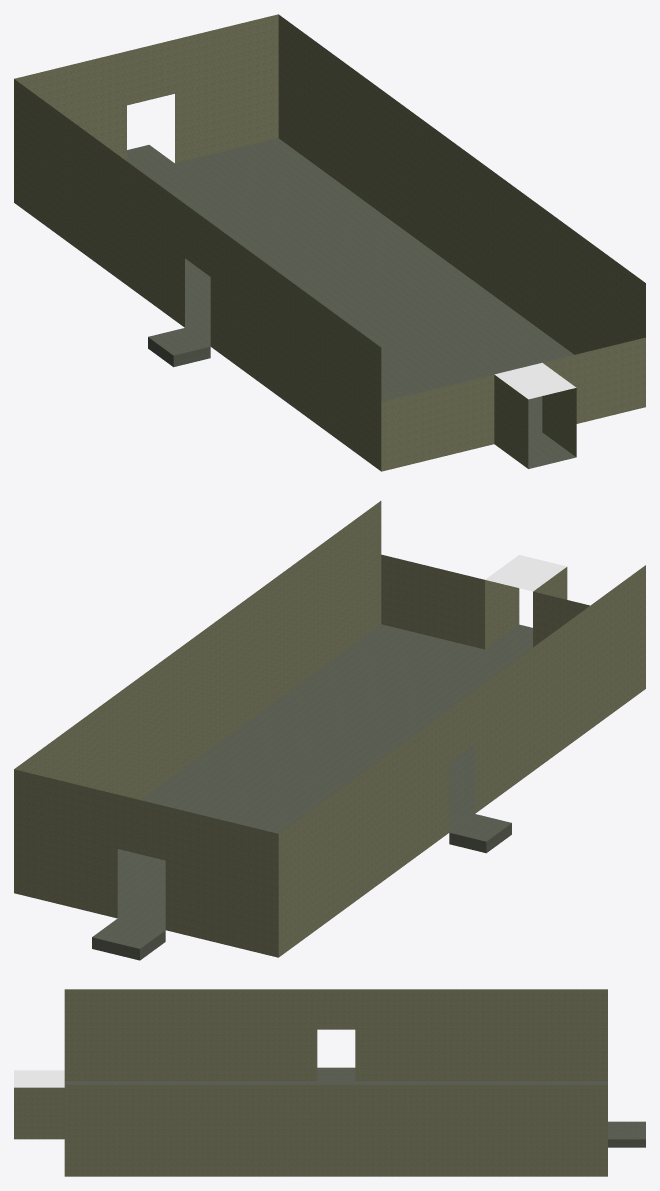
Rendered from ROOM_MainHall.fbx.
3 renders of one model, top to bottom at view 1: azimuth 30°, elevation 25°; view 2: azimuth 150°, elevation 25°; view 3: azimuth 270°, elevation 25°, orthographic. The views are drawn at different scales.
Parts seen in each view (by area): view 1: ROOM_MainHall; view 2: ROOM_MainHall; view 3: ROOM_MainHall.
Part boxes in pixels (x1,y1,x2,y2): ROOM_MainHall: (14, 14, 645, 471); ROOM_MainHall: (14, 501, 645, 960); ROOM_MainHall: (14, 989, 645, 1176).
Size of the model in its own units: 4075 by 1750 by 10000.
